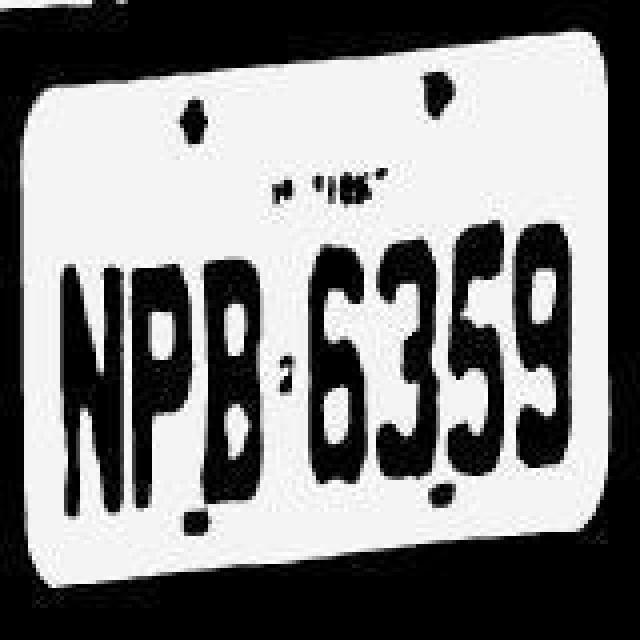3: (372, 222, 444, 482)
5: (444, 202, 516, 478)
6: (298, 232, 366, 488)
9: (512, 208, 576, 480)
B: (202, 252, 278, 516)
N: (58, 256, 126, 520)
P: (130, 262, 198, 522)
